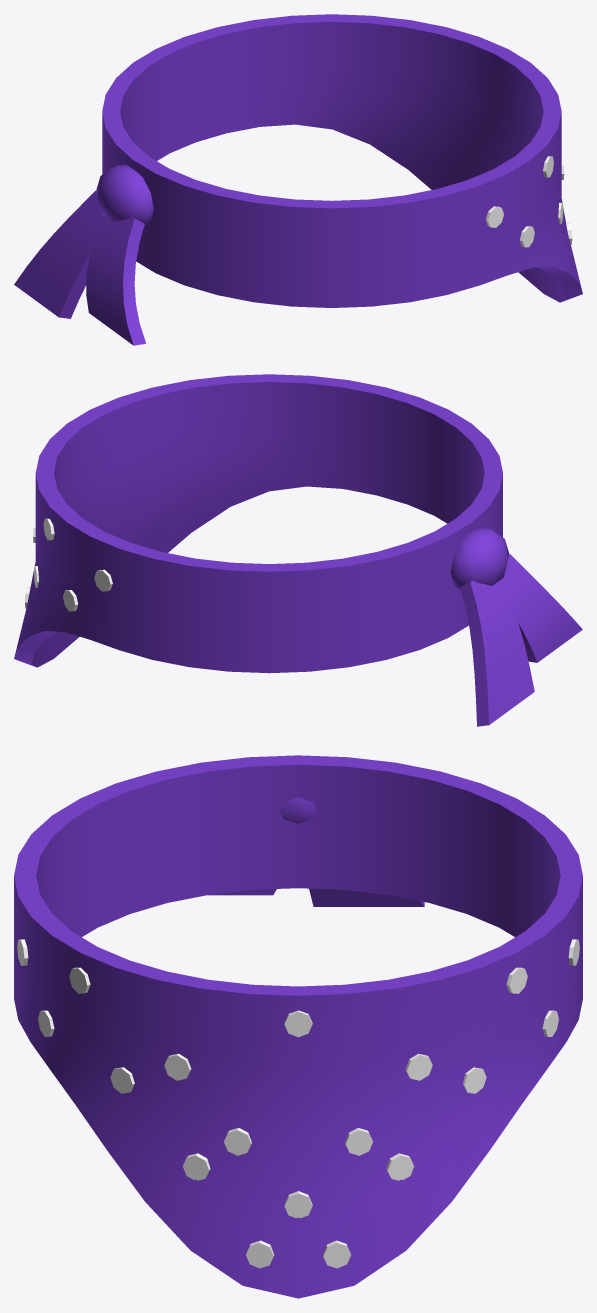
File: detail_bandana.glb
The picture shows the model from 3 angles, top to bottom: view 1: azimuth 30°, elevation 25°; view 2: azimuth 150°, elevation 25°; view 3: azimuth 270°, elevation 25°; orthographic projection. The views are drawn at different scales.
Visible parts, largest first — view 1: detail_bandana; view 2: detail_bandana; view 3: detail_bandana.
Boxes of the visible parts, box(x1,y1,x2,y2) form: detail_bandana: box(14, 14, 582, 345); detail_bandana: box(14, 374, 582, 726); detail_bandana: box(14, 755, 582, 1298).
Size of the model in its own units: 0.7002 by 0.3174 by 0.564.
